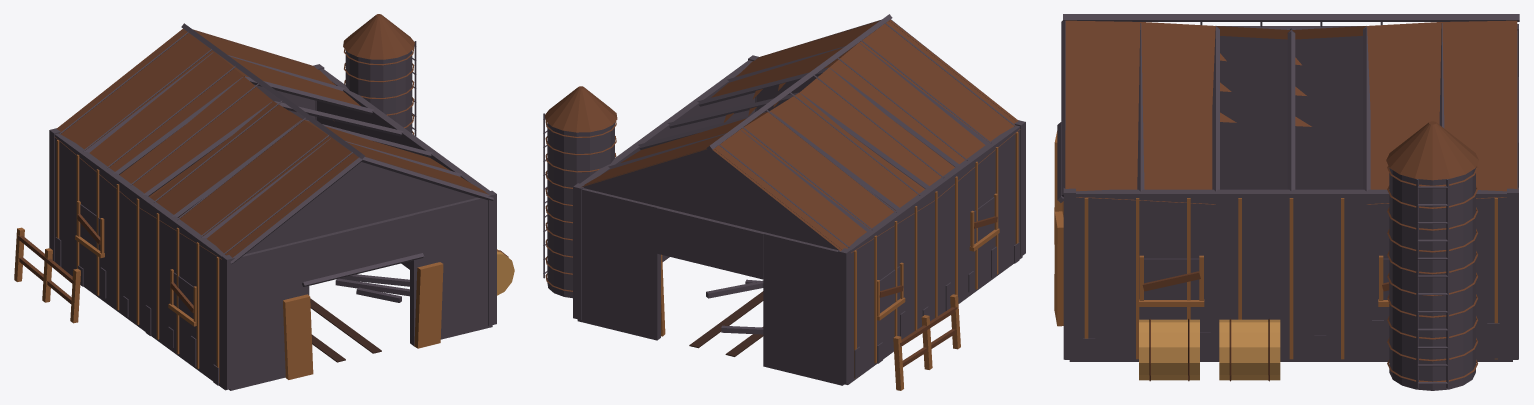
File: bld.farm-barn-ruin.burned.glb
3 renders of one model, left to right at view 1: azimuth 30°, elevation 25°; view 2: azimuth 150°, elevation 25°; view 3: azimuth 270°, elevation 25°, orthographic. The views are drawn at different scales.
Visible parts, largest first — view 1: body; view 2: body; view 3: body.
Part boxes in pixels (bbox=[...]): body: bbox=[14, 14, 514, 390]; body: bbox=[543, 14, 1025, 390]; body: bbox=[1054, 14, 1519, 390].
Size of the model in its own units: 9.95 by 5.27 by 8.4.
